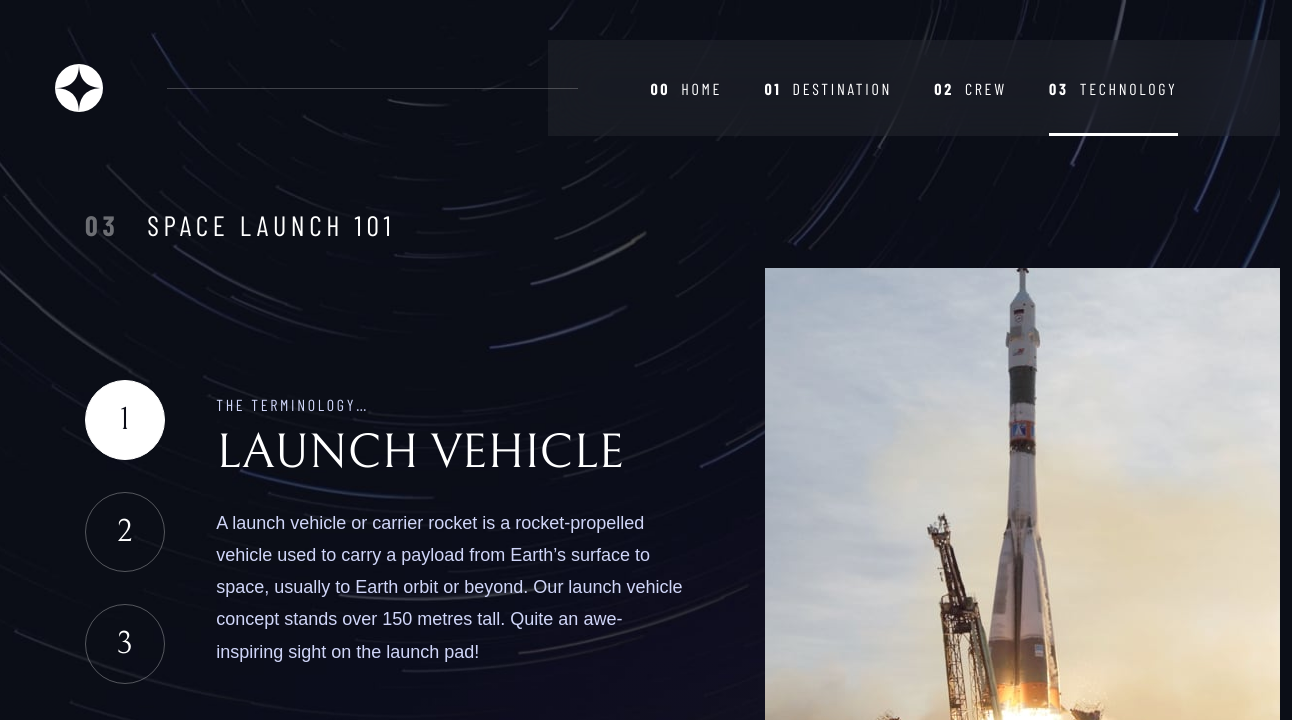
Test case: page tabs › changes each technology and associated picture
What coordinates should you click on to do the following:
click the tab named "Spaceport"
I would click on:
 (125, 532)
Its box is 85,492 -> 165,572.
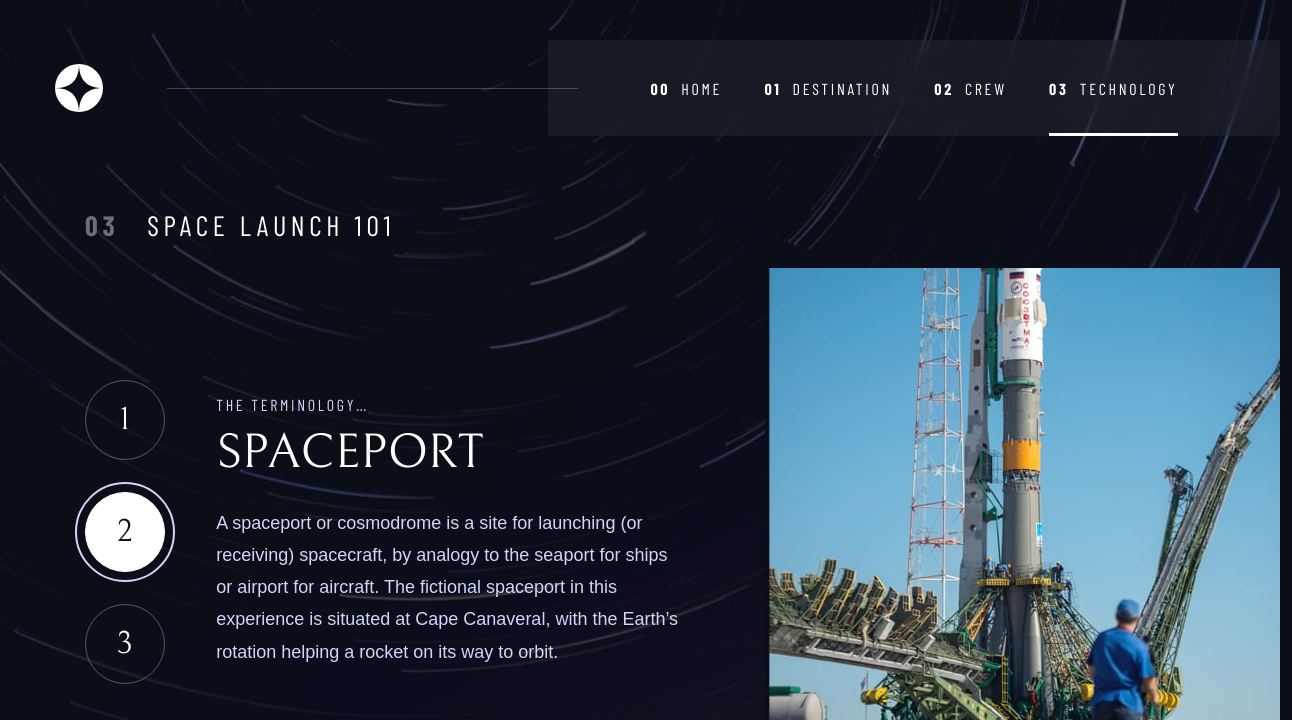
Result: the heading "Spaceport" is shown at 216,426 -> 484,480
What coordinates should you click on to do the following:
click the tab named "Space capsule"
I would click on:
 (125, 644)
Its box is 85,604 -> 165,684.
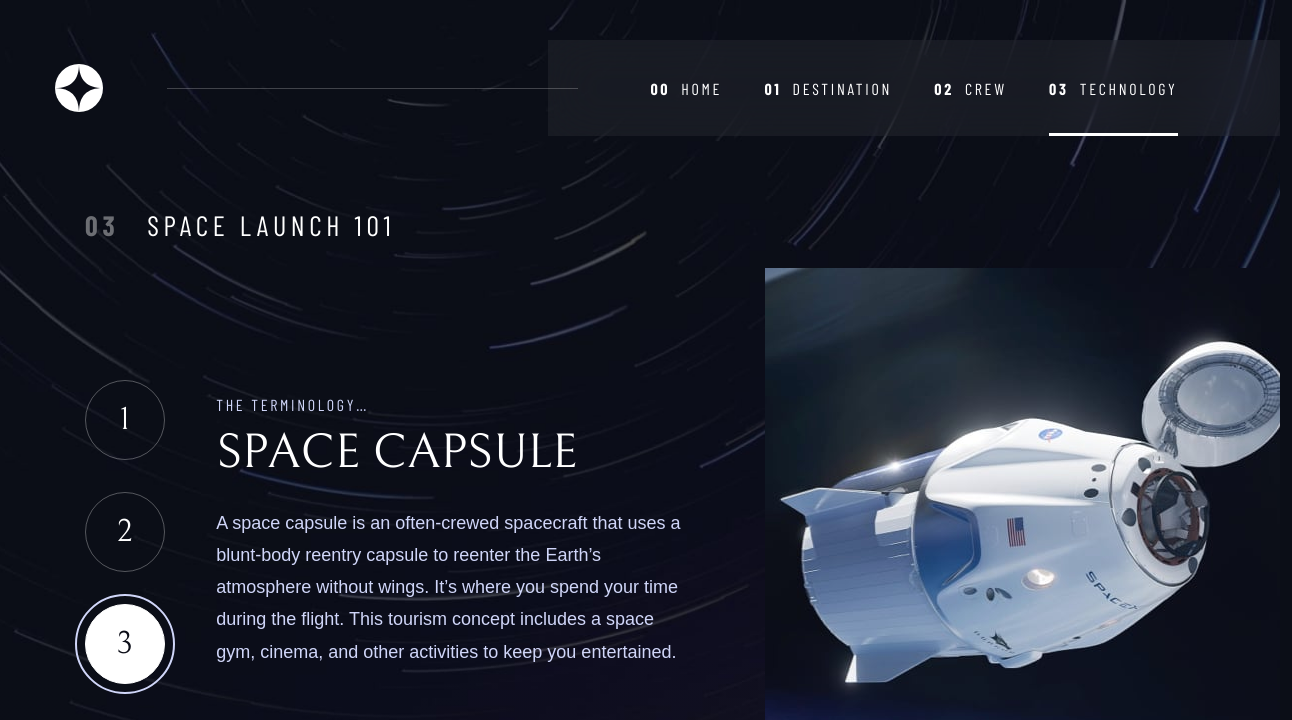
Result: the heading "Space capsule" is shown at 216,426 -> 578,480
What coordinates should you click on to do the following:
click the tab named "Launch vehicle"
I would click on:
 (125, 420)
Its box is 85,380 -> 165,460.
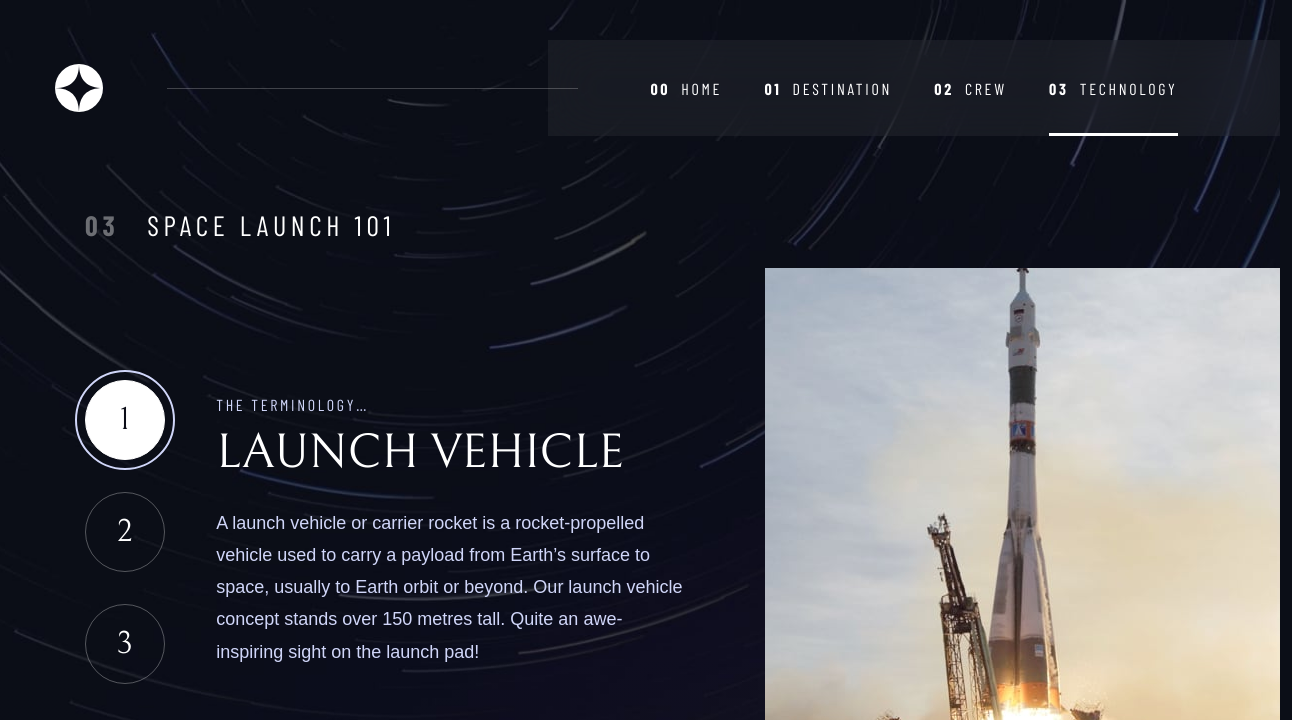
Result: the heading "Launch vehicle" is shown at 216,426 -> 686,481
